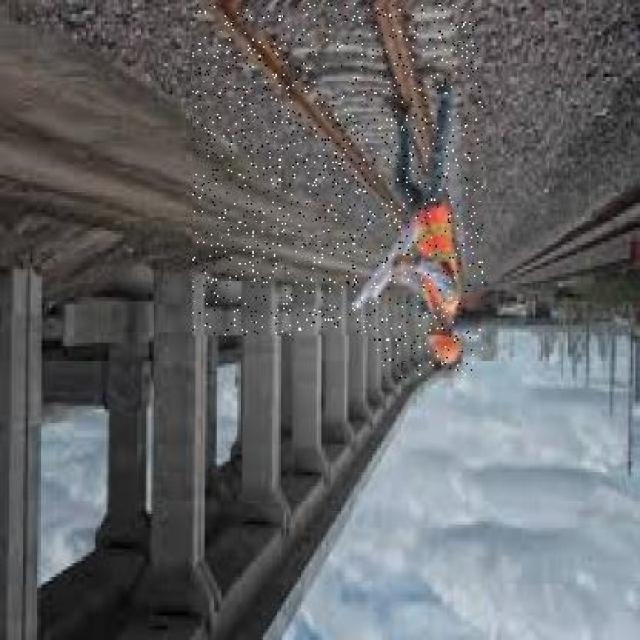rail: (194, 4, 479, 335)
